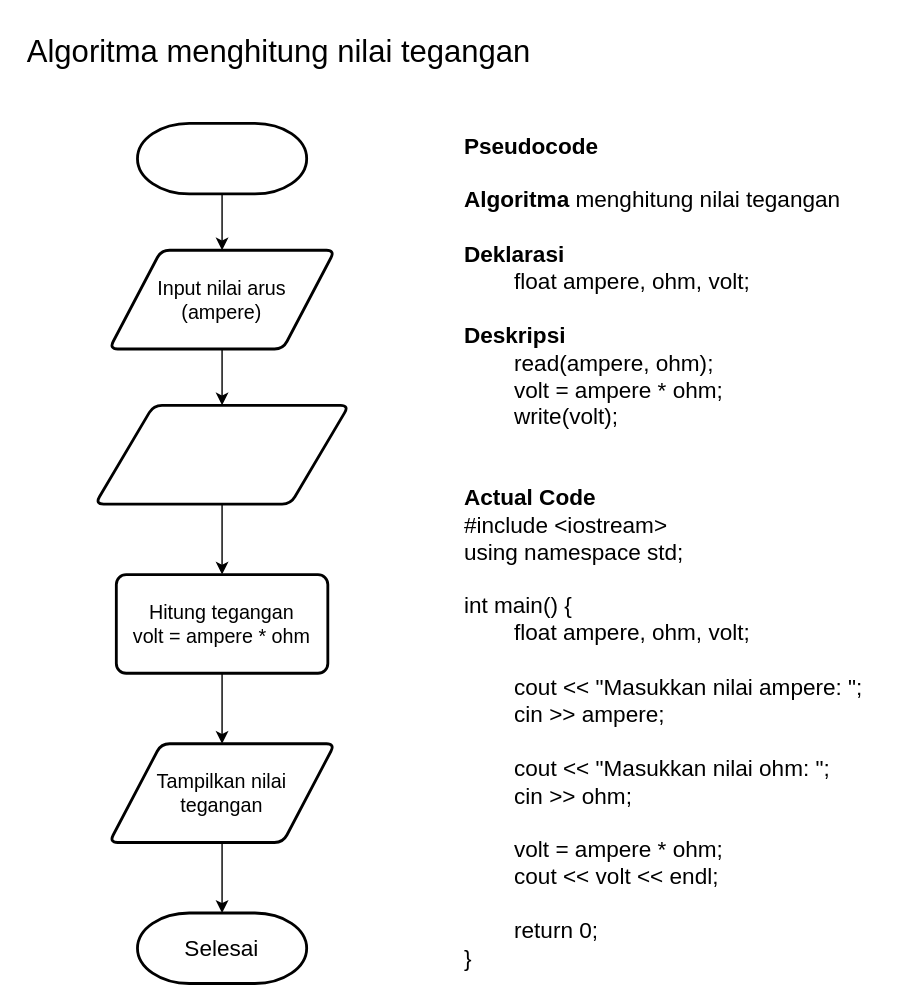
Image size: 922x1008. Some labels were removed from this diagram. Here are the shapes that lost their labels. From the top down, the centre of each, then its label:
the point at 221,158: Mulai
the point at 221,454: Input nilai tahanan (ohm)
